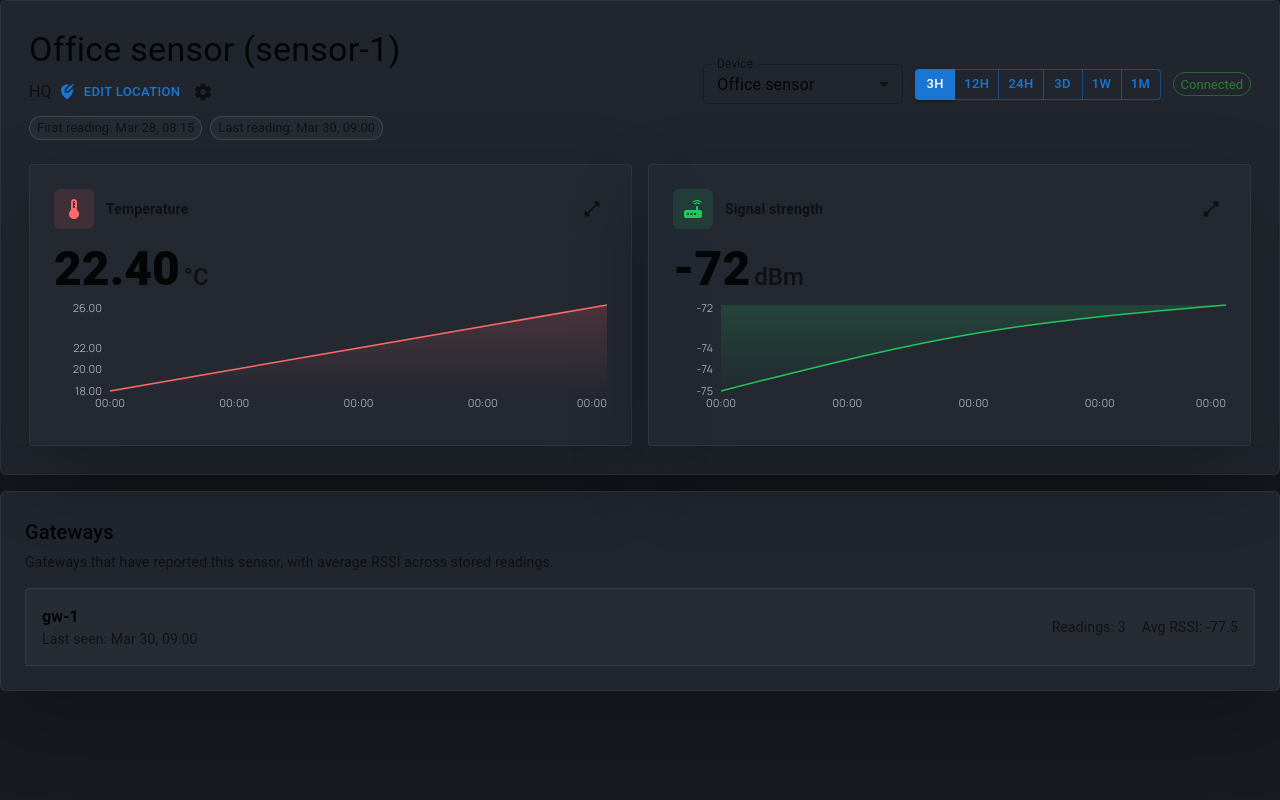
SensorsView › Shall_only_show_devices_from_same_location_in_device_dropdown
Check: the heading "Office sensor (sensor-1)" is shown, box [29,29,401,71]
Click the dropdown. click: point(766, 84)
box: [717,75,814,94]
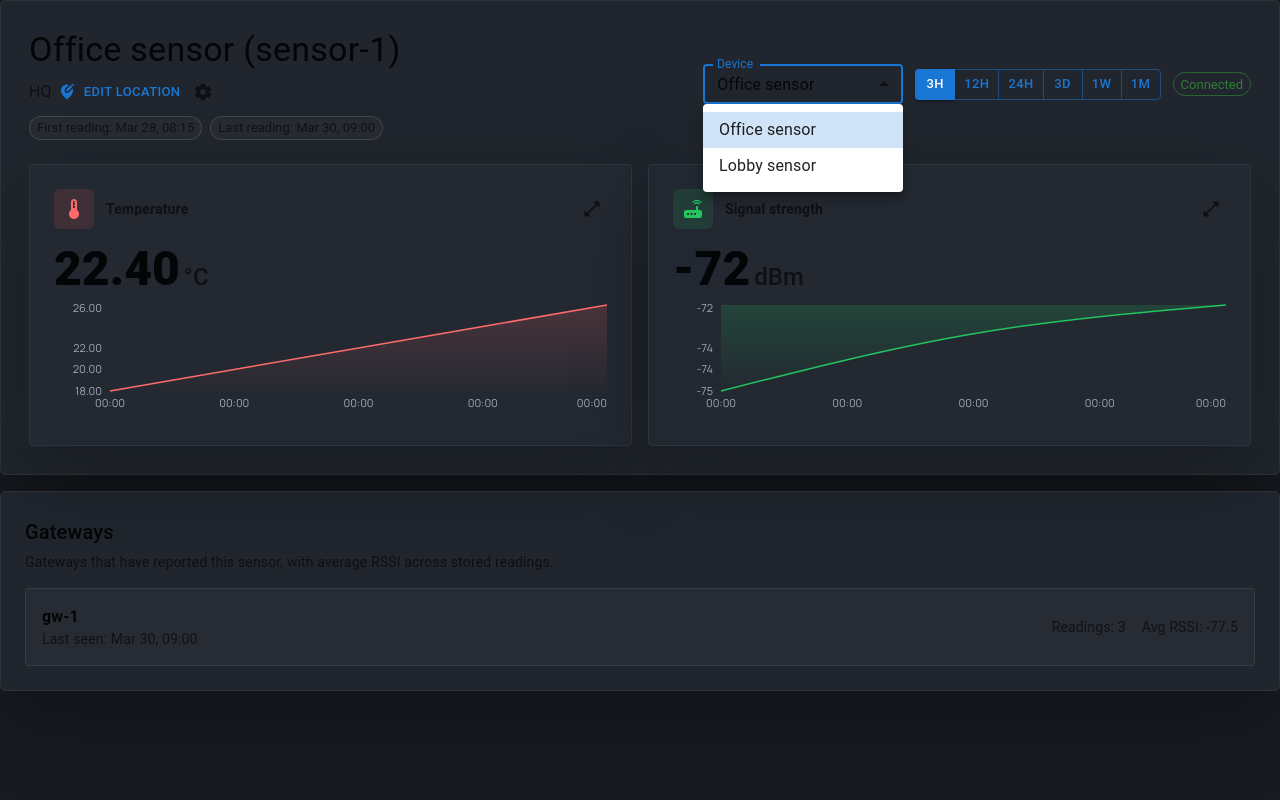
Check: the option "Office sensor" is shown, box [703,112,903,148]
Check: the option "Lobby sensor" is shown, box [719,156,816,175]
